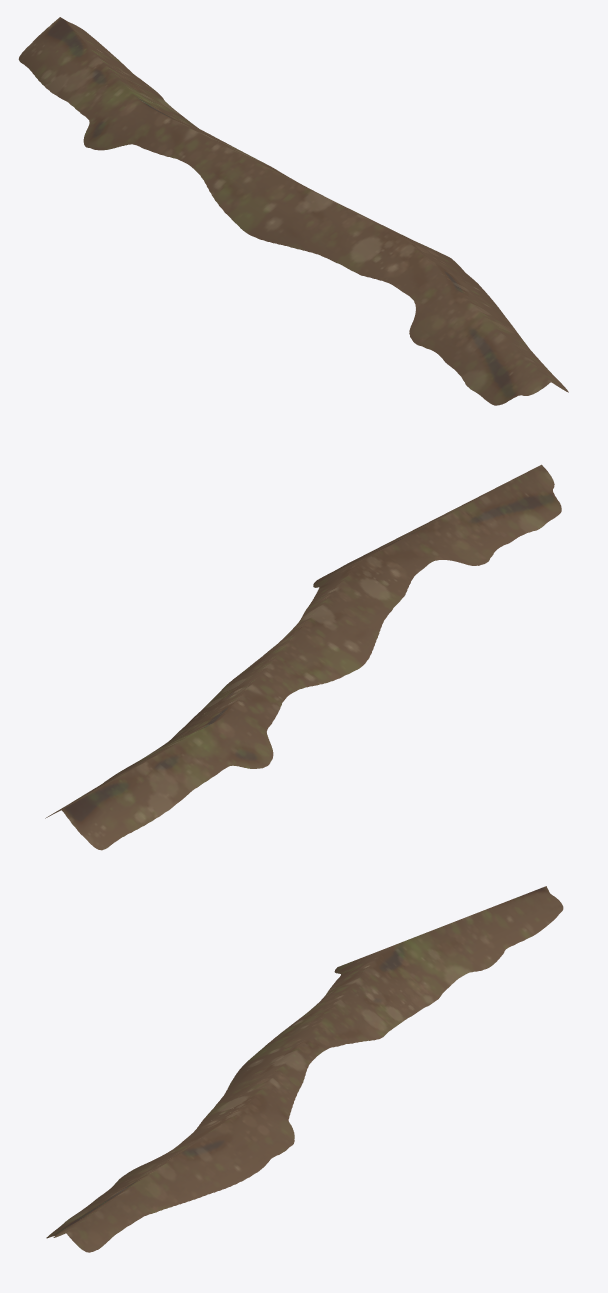
Rendered from MSH_fwOF_WoodDebris_Single_03.fbx.
3 renders of one model, top to bottom at view 1: azimuth 30°, elevation 25°; view 2: azimuth 150°, elevation 25°; view 3: azimuth 330°, elevation 25°, orthographic. The views are drawn at different scales.
Visible parts, largest first — view 1: MSH_fwOF_WoodDebris_Single_03; view 2: MSH_fwOF_WoodDebris_Single_03; view 3: MSH_fwOF_WoodDebris_Single_03.
Boxes of the visible parts, box(x1,y1,x2,y2) form: MSH_fwOF_WoodDebris_Single_03: box(18, 17, 568, 405); MSH_fwOF_WoodDebris_Single_03: box(45, 464, 561, 850); MSH_fwOF_WoodDebris_Single_03: box(46, 886, 563, 1252).
Size of the model in its own units: 0.092 by 0.0252 by 0.4569.
